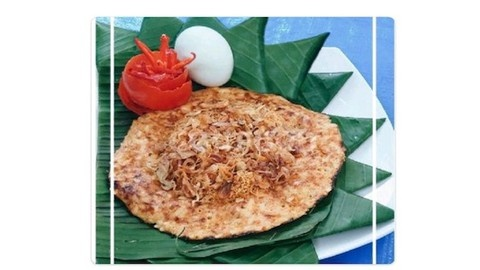kerak_telor: (112, 97, 346, 238)
